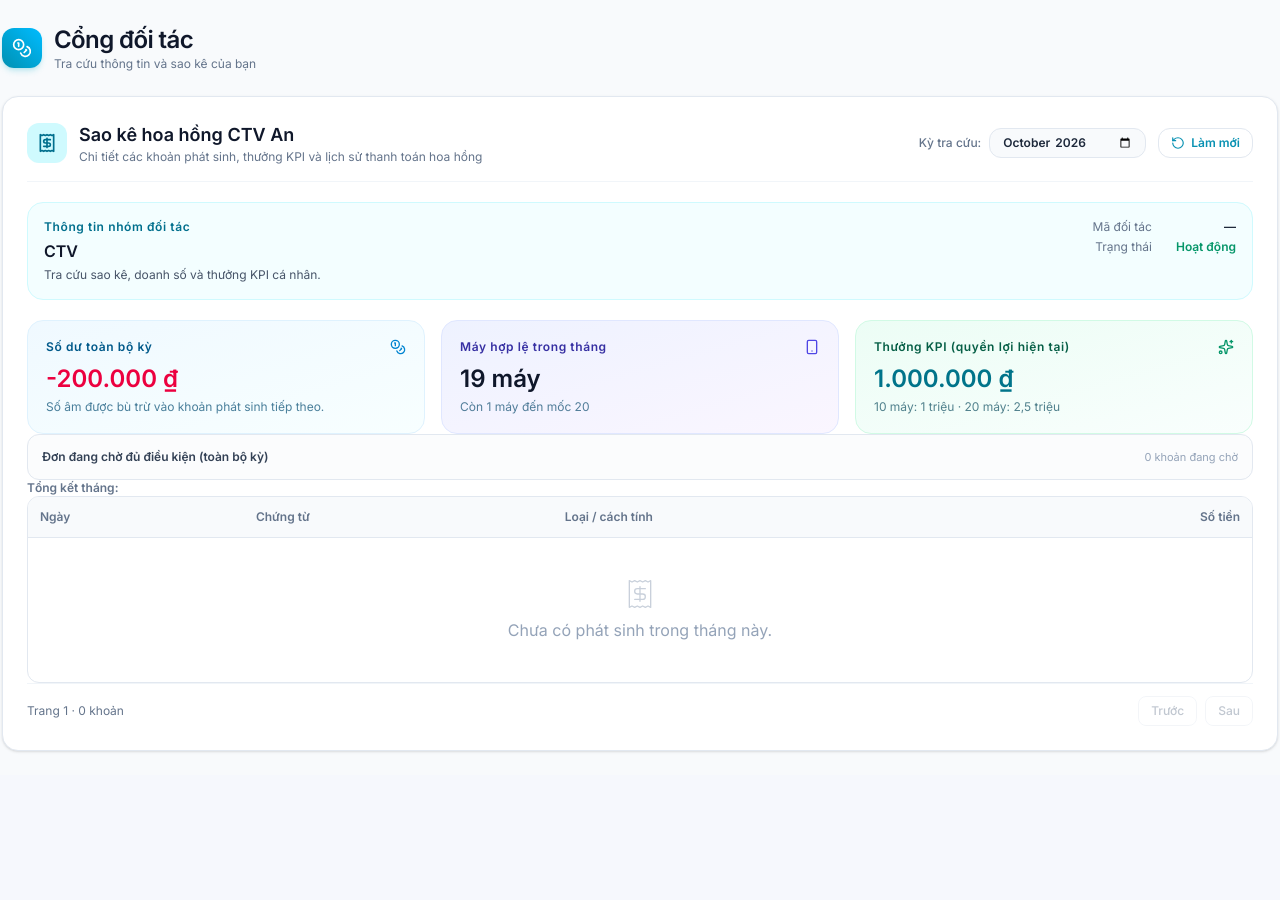
Scenario: clears old statement data when a new month cannot be loaded
Check: the text "19 máy" is shown, box x1=460 y1=364 x2=541 y2=393
Step 1. Replace the text in the field named "Tháng sao kê" with "2025-01" → (1068, 143), box x1=989 y1=128 x2=1146 y2=158
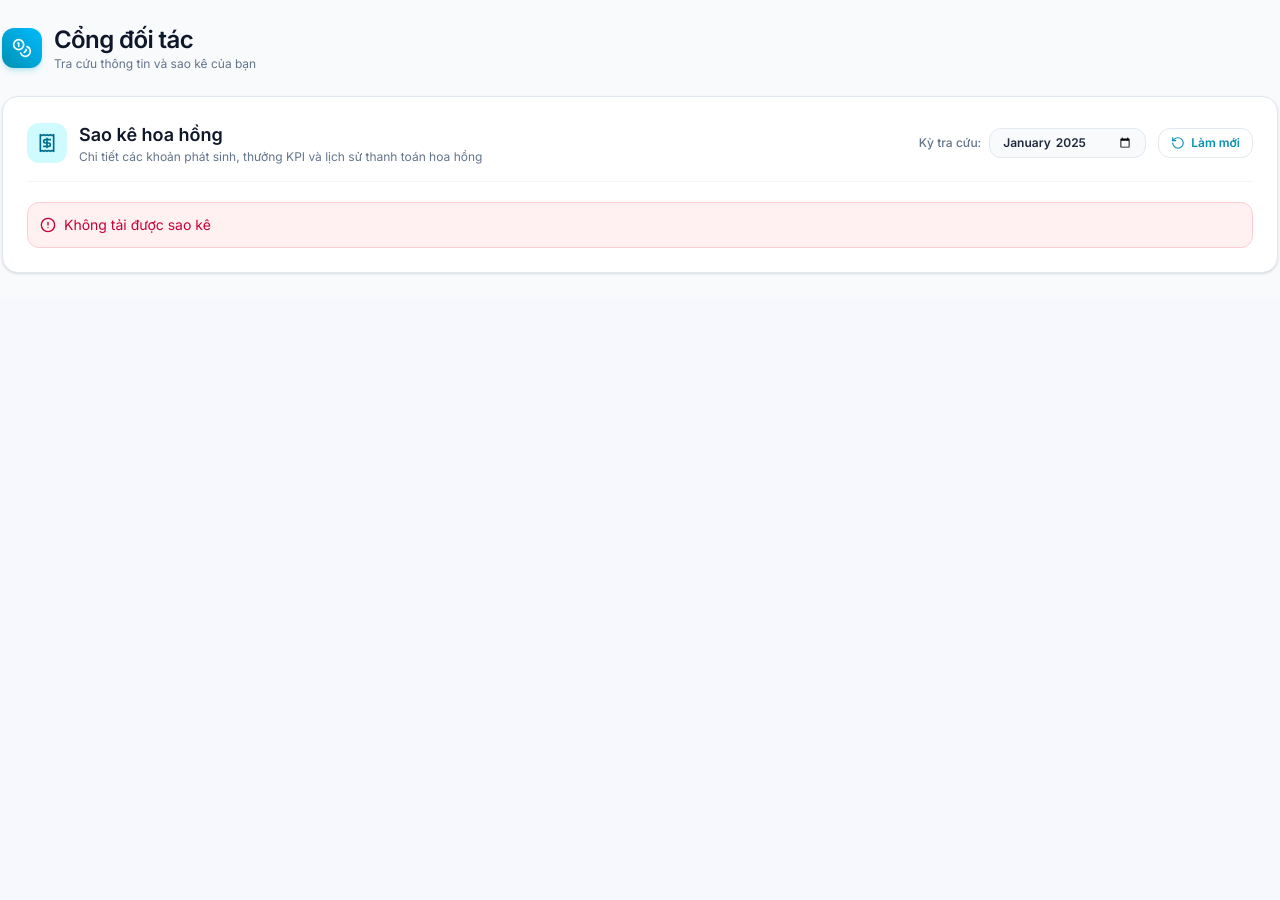
Check: the message "Không tải được sao kê" is shown, box x1=27 y1=202 x2=1253 y2=248
Check: the text "19 máy" is gone
